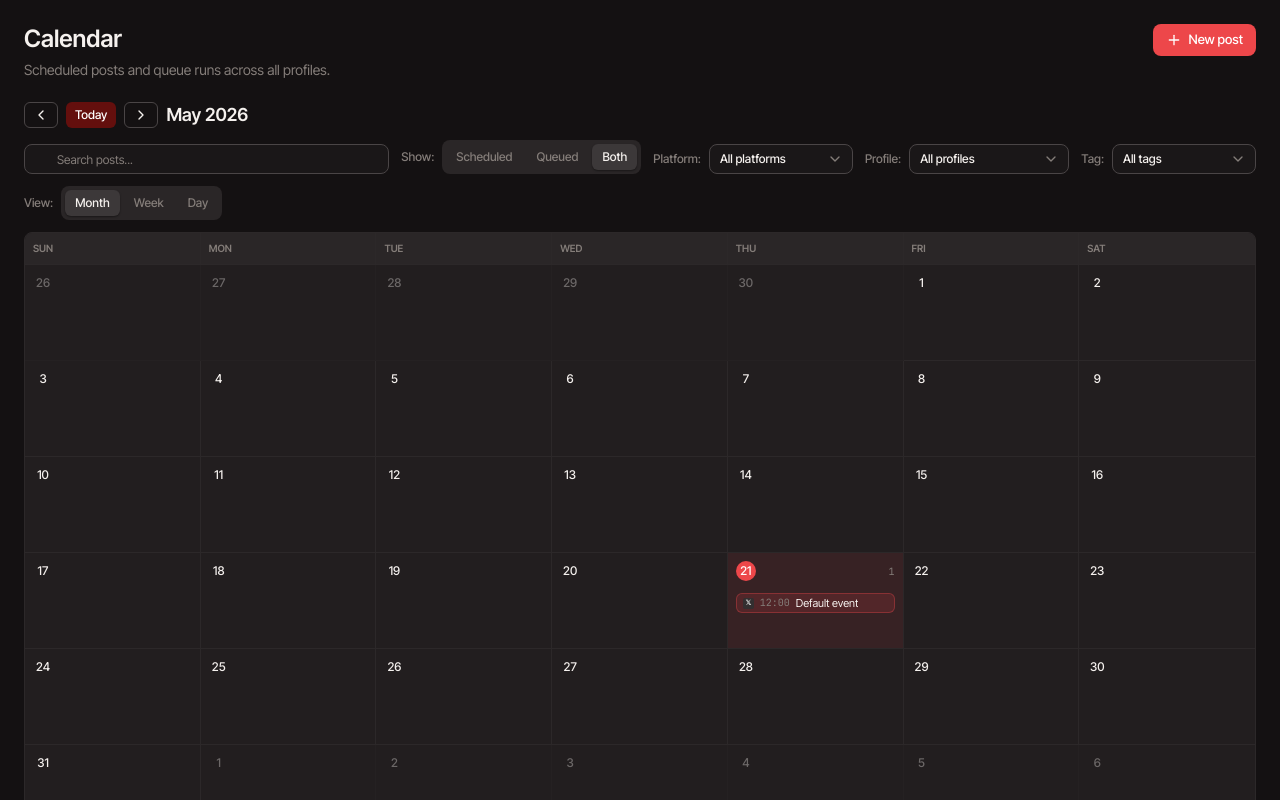
Test case: CalendarPage › returns to the real current month when Today is clicked
This screenshot has width=1280, height=800.
Click the button named "Next month": (141, 115) [124, 102, 158, 128]
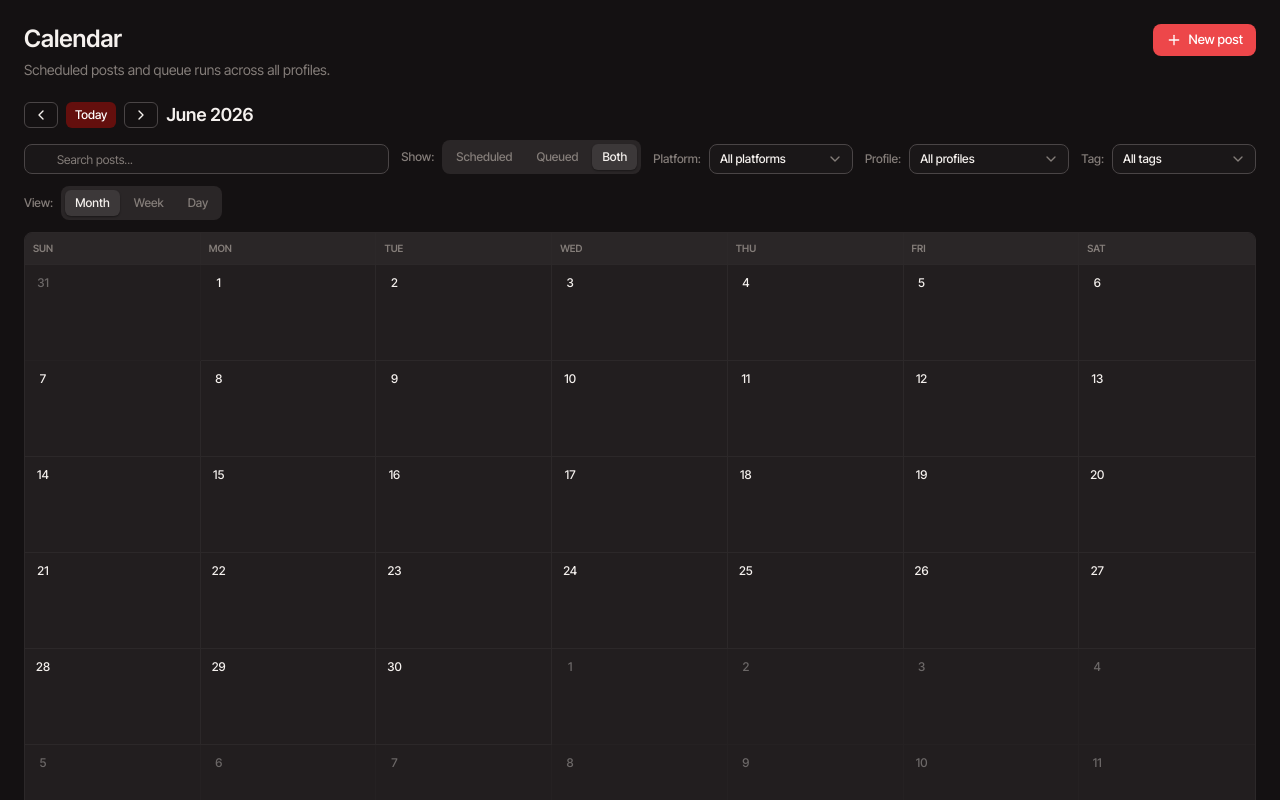
Now the heading "June 2026" is shown, box [166, 104, 254, 126]
Click the button "Today": (91, 115) [66, 102, 116, 128]
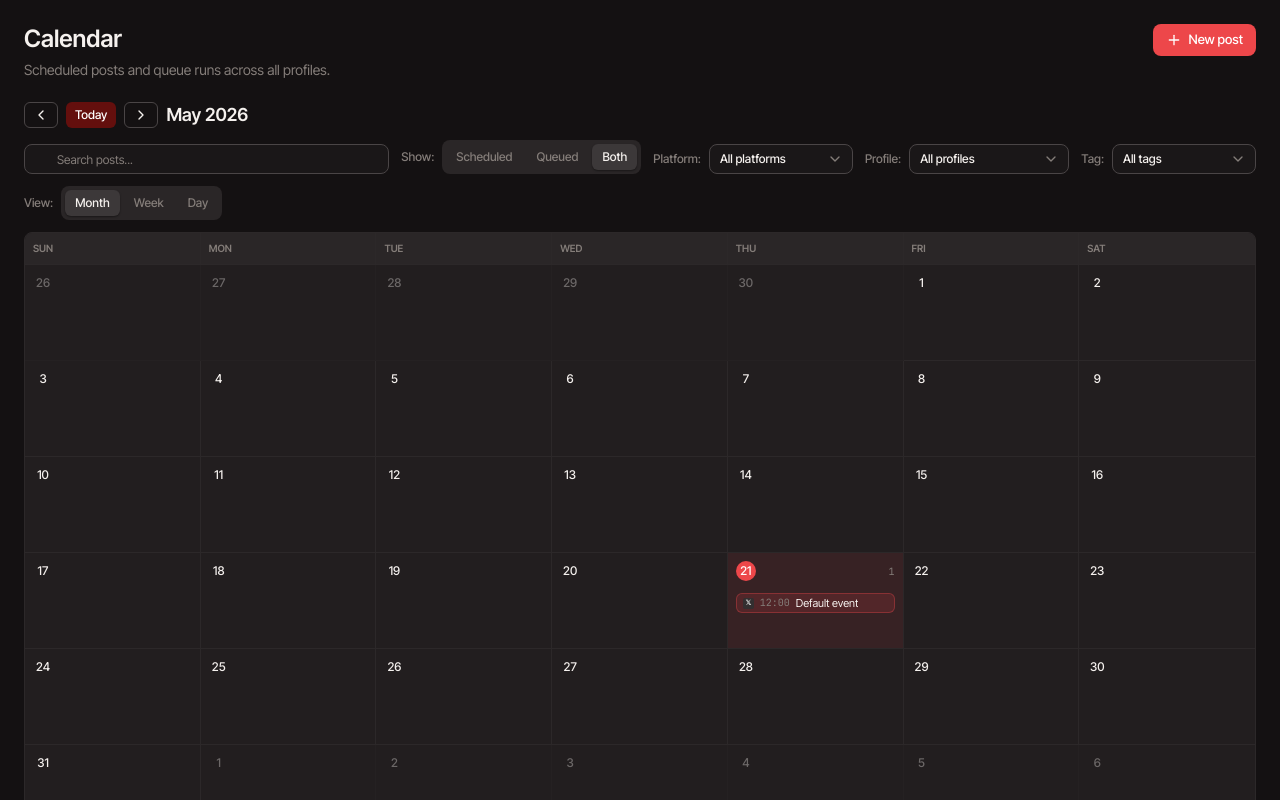
Now the heading "May 2026" is shown, box [166, 104, 248, 126]
